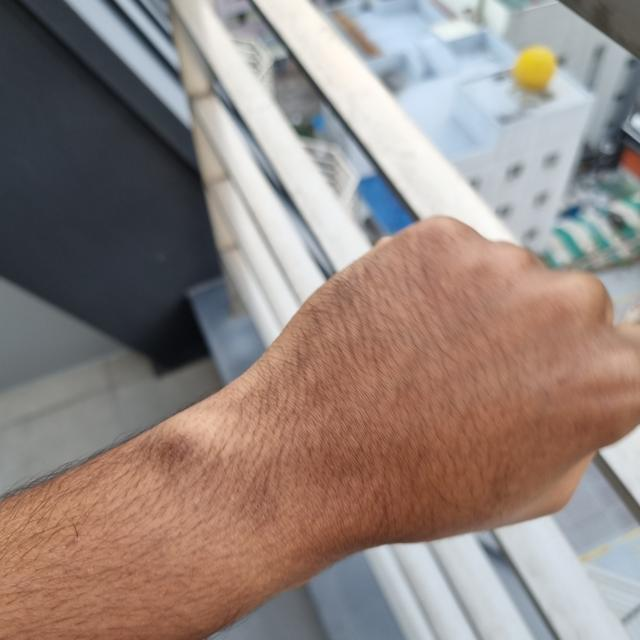Rock: (226, 214, 639, 543)
